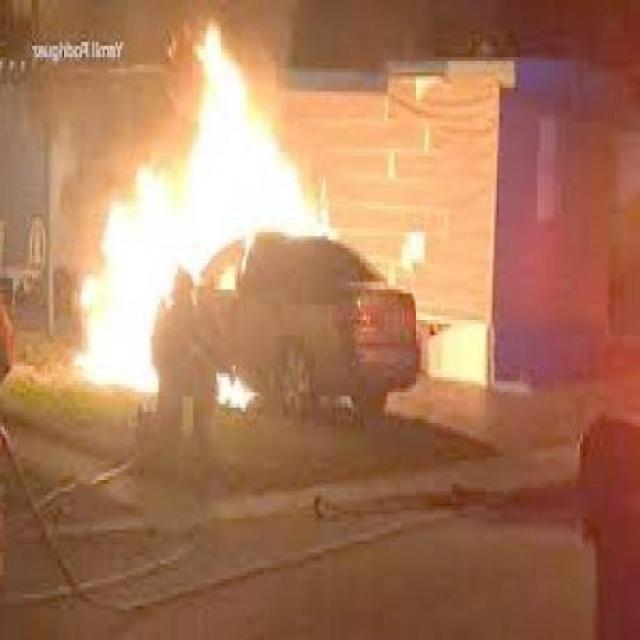Fire: (75, 18, 331, 412)
